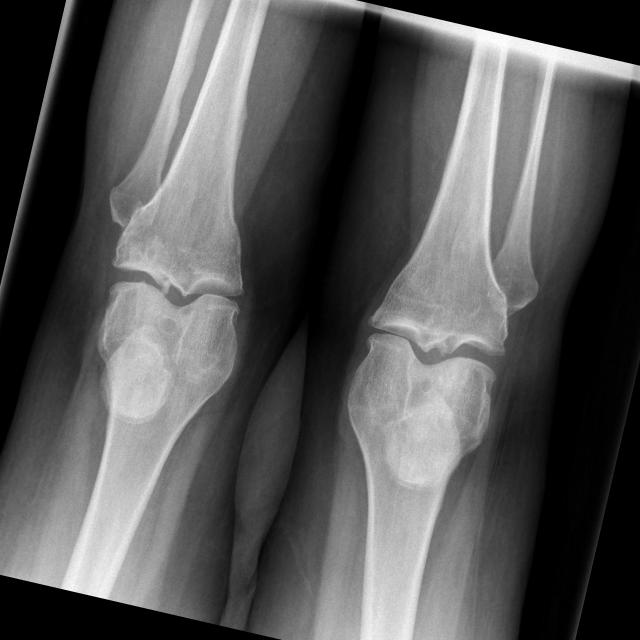Knee: (87, 202, 265, 388), (341, 259, 518, 440)
